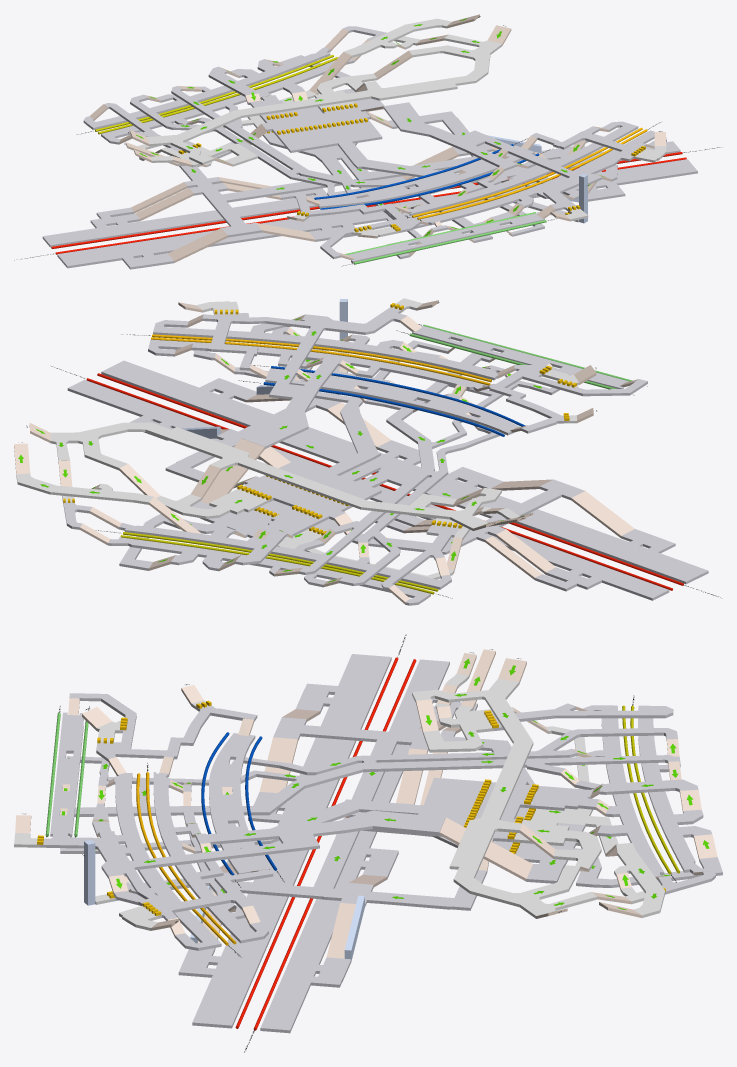
Rendered from nation.fbx.
3 views of the same model, one above another, from view 1: azimuth 30°, elevation 25°; view 2: azimuth 150°, elevation 25°; view 3: azimuth 270°, elevation 25° (orthographic). The views are drawn at different scales.
Parts seen in each view (by area): view 1: path21022.001, path20795.001, path21170.001, path5912.001, path942.001, path5618.001, path3347, path20797.001, path4855.001, path3324.002, path3341.002, path940.001 (+15 smaller); view 2: path21022.001, path20795.001, path5618.001, path5912.001, path942.001, path3347, path21170.001, path20797.001, path4855.001, path21179.001, path3324.002, path5910.001 (+16 smaller); view 3: path21022.001, path20795.001, path3347, path5618.001, path21170.001, path942.001, path5912.001, path20797.001, path4855.001, path21179.001, path5910.001, path4843.001 (+15 smaller).
Part boxes in pixels (x1,y1,x2,y2): path21022.001: [42, 141, 697, 269]; path20795.001: [316, 121, 666, 263]; path21170.001: [179, 111, 567, 237]; path5912.001: [247, 95, 578, 236]; path942.001: [146, 34, 502, 164]; path5618.001: [383, 102, 646, 211]; path3347: [130, 86, 492, 259]; path20797.001: [83, 47, 354, 144]; path4855.001: [296, 196, 420, 259]; path3324.002: [412, 127, 647, 219]; path3341.002: [95, 55, 338, 134]; path940.001: [344, 18, 451, 57]; path21022.001: [67, 360, 708, 600]; path20795.001: [148, 320, 629, 435]; path5618.001: [192, 307, 406, 448]; path5912.001: [234, 340, 450, 536]; path942.001: [50, 422, 501, 530]; path3347: [299, 353, 559, 585]; path21170.001: [165, 366, 584, 554]; path20797.001: [108, 523, 451, 605]; path4855.001: [488, 365, 647, 433]; path21179.001: [119, 501, 272, 570]; path3324.002: [151, 334, 491, 385]; path5910.001: [156, 489, 269, 518]; path21022.001: [178, 654, 477, 1033]; path20795.001: [50, 712, 269, 950]; path3347: [66, 728, 679, 826]; path5618.001: [40, 810, 445, 920]; path21170.001: [114, 717, 534, 910]; path942.001: [412, 678, 597, 918]; path5912.001: [60, 777, 598, 909]; path20797.001: [575, 705, 711, 876]; path4855.001: [69, 693, 257, 761]; path21179.001: [515, 823, 722, 887]; path5910.001: [510, 820, 601, 871]; path4843.001: [423, 705, 514, 752].
Bounding box in the file's own units: 309220 × 221252 × 29000.
